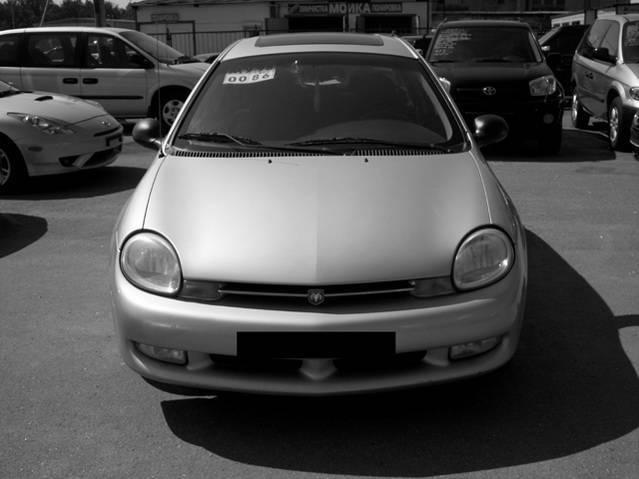car: (111, 32, 530, 401)
